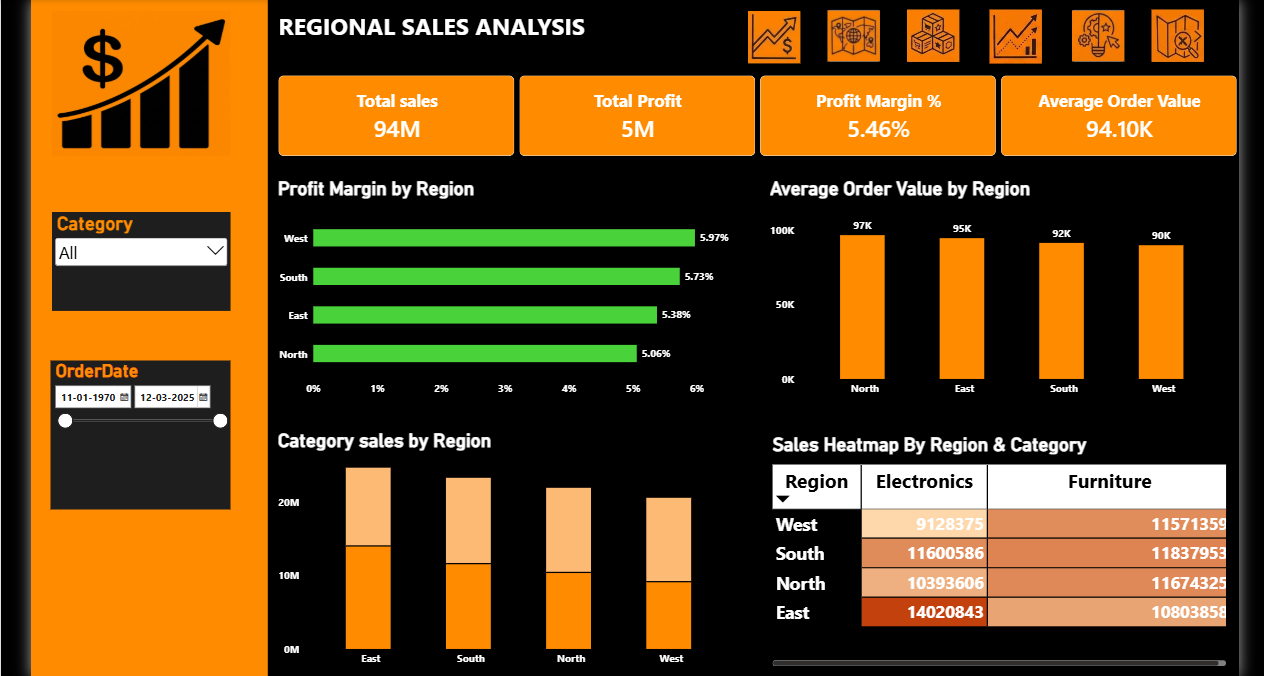

What the dashboard file says about the page in this screenshot:
{"tool":"powerbi","page":{"name":"Regional Sales Analysis","canvas":[1920,1080],"ordinal":2},"visuals":[{"type":"shape","box":[0,0,377,1080.8],"z":0},{"type":"textbox","box":[393.7,16.7,627.5,107.4],"z":1000},{"type":"cardVisual","fields":{"Data":["Measure  Table.Total sales","Measure  Table.Total Profit","Measure  Table.Profit Margin %","Measure  Table.Average Order Value"]},"box":[393,121.7,1527,128.8],"z":2000},{"type":"clusteredBarChart","title":"Profit Margin by Region","fields":{"Category":["SalesData_1000Rows_WithIssues_copy.Region"],"Y":["Measure  Table.Profit Margin %"]},"box":[377,269.6,761.1,381.7],"z":3000},{"type":"clusteredColumnChart","fields":{"Category":["SalesData_1000Rows_WithIssues_copy.Region"],"Y":["Measure  Table.Average Order Value"]},"box":[1159.6,269.6,761.1,381.7],"z":4000},{"type":"columnChart","title":"Category sales by Region ","fields":{"Category":["SalesData_1000Rows_WithIssues_copy.Region"],"Y":["Measure  Table.Total sales"],"Series":["SalesData_1000Rows_WithIssues_copy.Category"]},"box":[377,670.4,761.1,410.4],"z":5000},{"type":"pivotTable","title":"Sales Heatmap By Region & Category","fields":{"Rows":["SalesData_1000Rows_WithIssues_copy.Region"],"Columns":["SalesData_1000Rows_WithIssues_copy.Category"],"Values":["Measure  Table.Total sales"]},"box":[1159.6,670.4,761.1,410.4],"z":6000},{"type":"slicer","fields":{"Values":["SalesData_1000Rows_WithIssues_copy.OrderDate"]},"box":[31,575,286.3,236.2],"z":7000},{"type":"slicer","fields":{"Values":["SalesData_1000Rows_WithIssues_copy.Category"]},"box":[33.4,338.8,283.9,157.5],"z":8000},{"type":"actionButton","box":[1140.5,19.1,83.5,83.5],"z":9000},{"type":"actionButton","box":[1266.9,16.7,83.5,83.5],"z":10000},{"type":"actionButton","box":[1393.4,16.7,83.5,83.5],"z":11000},{"type":"actionButton","box":[1524.6,16.7,83.5,85.9],"z":12000},{"type":"actionButton","box":[1655.8,16.7,83.5,83.5],"z":13000},{"type":"actionButton","box":[1782.3,16.7,83.5,83.5],"z":14000},{"type":"image","box":[33.4,19.1,283.9,231.4],"z":15000}]}

Visuals, with their boxes on the page's 1920x1080 design canvas (x1, y1, x2, y2). These are canvas units, not pixel positions in the 1264x676 screenshot, which may show the page scaled, cropped or inside an application window:
shape: x1=0 y1=0 x2=377 y2=1081
textbox: x1=394 y1=17 x2=1021 y2=124
cardVisual - Measure  Table.Total sales x Measure  Table.Total Profit: x1=393 y1=122 x2=1920 y2=250
"Profit Margin by Region" clusteredBarChart: x1=377 y1=270 x2=1138 y2=651
clusteredColumnChart - SalesData_1000Rows_WithIssues_copy.Region x Measure  Table.Average Order Value: x1=1160 y1=270 x2=1921 y2=651
"Category sales by Region " columnChart: x1=377 y1=670 x2=1138 y2=1081
"Sales Heatmap By Region & Category" pivotTable: x1=1160 y1=670 x2=1921 y2=1081
slicer - SalesData_1000Rows_WithIssues_copy.OrderDate: x1=31 y1=575 x2=317 y2=811
slicer - SalesData_1000Rows_WithIssues_copy.Category: x1=33 y1=339 x2=317 y2=496
actionButton: x1=1140 y1=19 x2=1224 y2=103
actionButton: x1=1267 y1=17 x2=1350 y2=100
actionButton: x1=1393 y1=17 x2=1477 y2=100
actionButton: x1=1525 y1=17 x2=1608 y2=103
actionButton: x1=1656 y1=17 x2=1739 y2=100
actionButton: x1=1782 y1=17 x2=1866 y2=100
image: x1=33 y1=19 x2=317 y2=250
